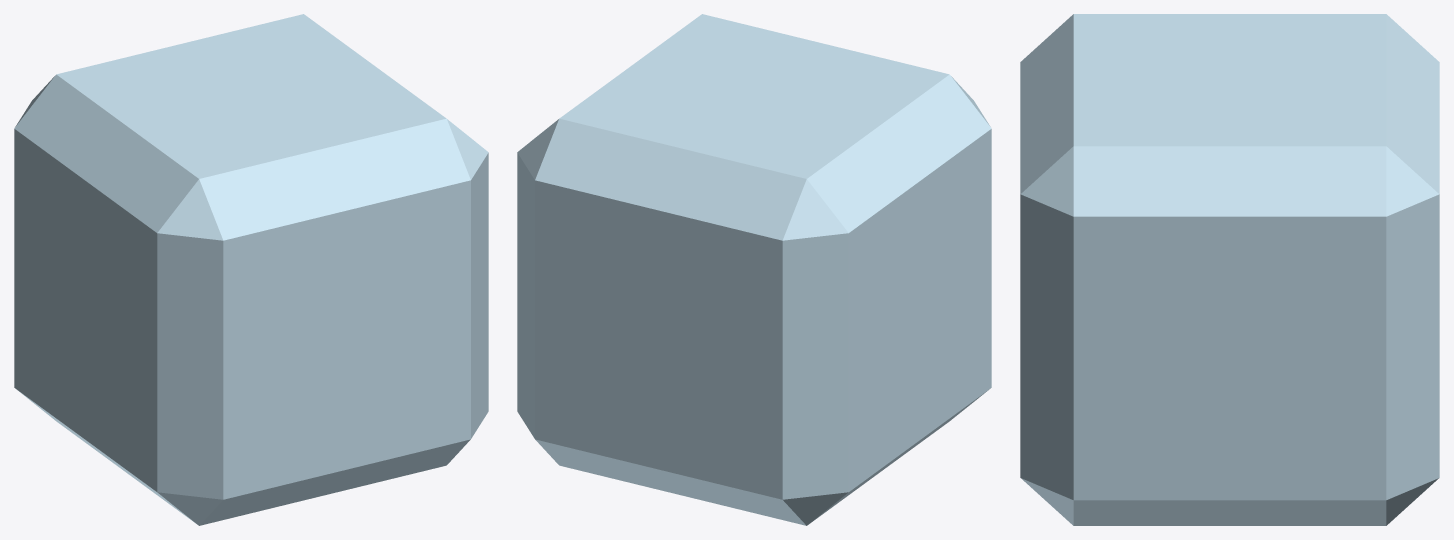
File: Part Studio 1.gltf
3 renders of one model, left to right at view 1: azimuth 30°, elevation 25°; view 2: azimuth 150°, elevation 25°; view 3: azimuth 270°, elevation 25°, orthographic. The views are drawn at different scales.
Parts seen in each view (by area): view 1: Part 1; view 2: Part 1; view 3: Part 1.
Part boxes in pixels (bbox=[...]): Part 1: bbox=[14, 14, 488, 525]; Part 1: bbox=[517, 14, 991, 525]; Part 1: bbox=[1020, 14, 1439, 525].
Bounding box in the file's own units: 0.03 × 0.03 × 0.03.
